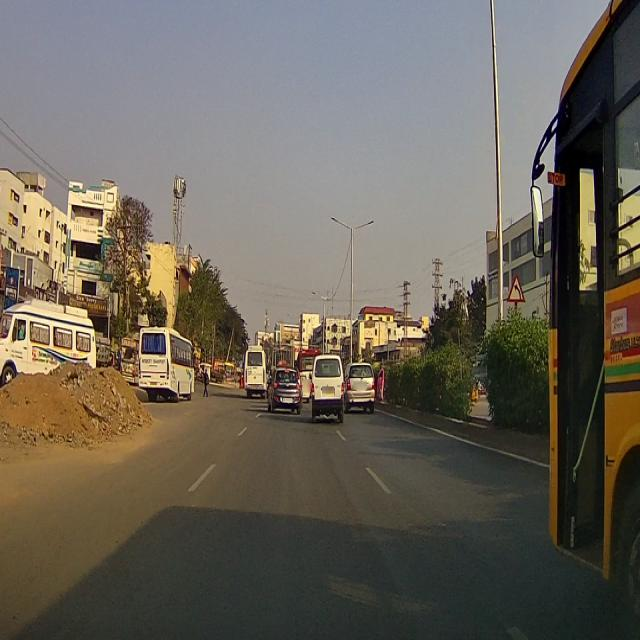left-hand-curve: (508, 273, 526, 301)
